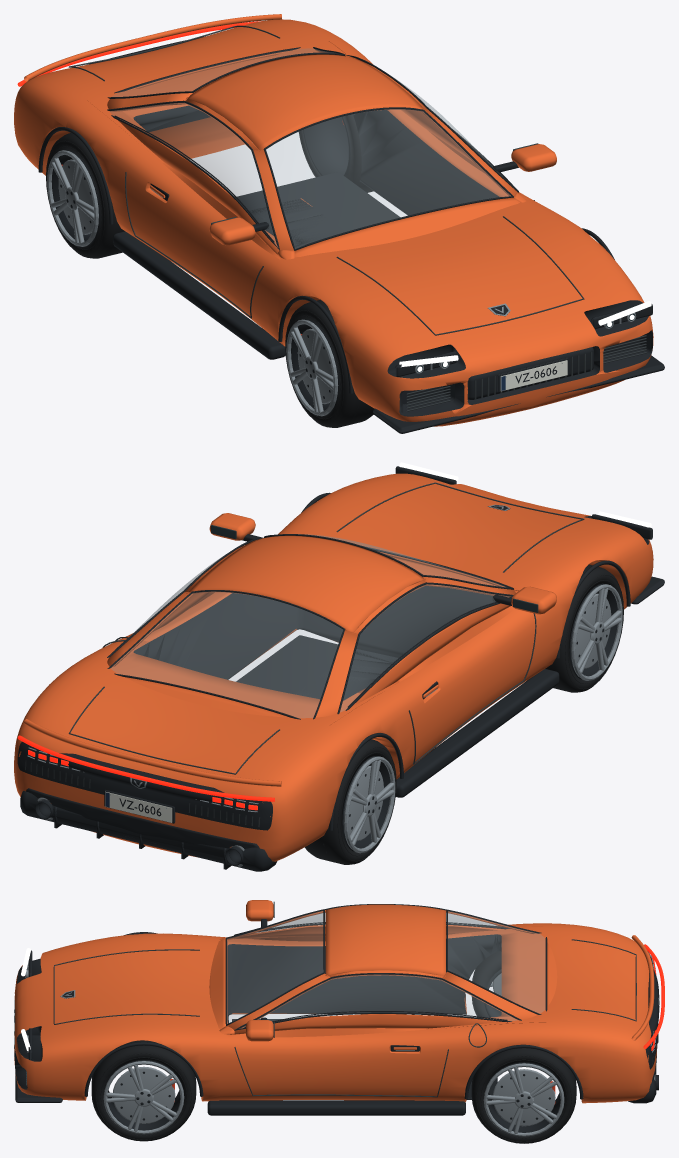
Rendered from solstice-gt.glb.
3 renders of one model, top to bottom at view 1: azimuth 30°, elevation 25°; view 2: azimuth 150°, elevation 25°; view 3: azimuth 270°, elevation 25°, orthographic. The views are drawn at different scales.
Parts seen in each view (by area): view 1: Paint, Graphite, Window windscreen, Window side -1, Wheel_FR, Wheel_RR, Intake mesh, Wheel_RL, Window rear, Plate, Tail, Headlight; view 2: Paint, Graphite, Window rear, Window side -1, Wheel_RR, Wheel_FR, Intake mesh, Tail, Window windscreen, Plate; view 3: Paint, Graphite, Wheel_FL, Wheel_RL, Window windscreen, Window rear, Window side 1, Intake mesh, Wheel_RR, Tail, Window side -1.
Boxes of the visible parts, x1,y1,x2,y2 form: Paint: (14,14,653,426); Graphite: (38,36,664,433); Window windscreen: (266,109,510,248); Window side -1: (110,103,277,246); Wheel_FR: (285,299,374,427); Wheel_RR: (46,133,124,258); Intake mesh: (68,25,646,411); Wheel_RL: (298,114,373,192); Window rear: (112,48,333,96); Plate: (500,360,567,391); Tail: (17,21,262,86); Headlight: (399,301,651,371); Paint: (14,473,653,861); Graphite: (17,466,664,871); Window rear: (111,591,342,717); Window side -1: (340,584,510,711); Wheel_RR: (305,739,396,864); Wheel_FR: (545,564,623,692); Intake mesh: (25,482,584,827); Tail: (17,735,274,810); Window windscreen: (298,534,505,586); Plate: (105,791,172,822); Paint: (14,900,656,1103); Graphite: (14,904,659,1115); Wheel_FL: (91,1040,196,1141); Wheel_RL: (471,1044,576,1143); Window windscreen: (227,910,323,1023); Window rear: (448,911,545,1013); Window side 1: (239,974,517,1028); Intake mesh: (15,939,657,1097); Wheel_RR: (471,951,501,1017); Tail: (643,944,664,1050); Window side -1: (270,913,503,928).
Size of the model in its own units: 2.26 by 1.31 by 4.66.
